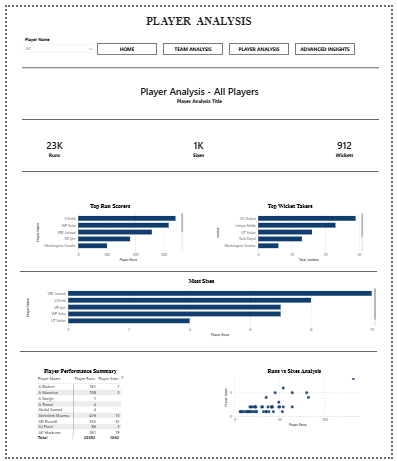

Layout of this report page (visuals, bound fields, positions):
{"tool":"powerbi","page":{"name":"Player Analysis","canvas":[1280,1500],"ordinal":2},"visuals":[{"type":"textbox","box":[0,18.5,1280,57.1],"z":0},{"type":"cardVisual","fields":{"Data":["Measure_Table.Player Analysis Title"]},"box":[372,240.7,536.1,99.8],"z":1000},{"type":"clusteredBarChart","title":"Top Run Scorers","fields":{"Category":["Dim_Player.Player Name"],"Y":["Measure_Table.Player Runs"]},"box":[94.4,653.5,500,200],"z":2000},{"type":"clusteredBarChart","title":"Most Sixes","fields":{"Category":["Dim_Player.Player Name"],"Y":["Measure_Table.Player Sixes"]},"box":[58.8,903.1,1175.5,200.3],"z":3000},{"type":"barChart","title":"Top Wicket Takers","fields":{"Category":["IPL_Data.bowler"],"Y":["Measure_Table.Total_wickets"]},"box":[694.4,653.5,500,200],"z":4000},{"type":"pivotTable","title":"Player Performance Summary","fields":{"Rows":["Dim_Player.Player Name"],"Values":["Measure_Table.Player Runs","Measure_Table.Player Sixes"]},"box":[94.8,1203.4,300.9,244.3],"z":5000},{"type":"shape","box":[49.6,163.4,1190,78.3],"z":6000},{"type":"shape","box":[49.6,300,1190,150],"z":7000},{"type":"shape","box":[44.4,807.8,1190,150],"z":8000},{"type":"shape","box":[44.4,1071.8,1190,150],"z":9000},{"type":"slicer","fields":{"Values":["Dim_Player.Player Name"]},"box":[45.4,96.4,255.1,82.2],"z":10000},{"type":"scatterChart","title":"Runs vs Sixes Analysis","fields":{"X":["Measure_Table.Player Runs"],"Y":["Measure_Table.Player Sixes"],"Category":["Dim_Player.Player Name"]},"box":[720.6,1204.4,473.7,200.3],"z":11000},{"type":"cardVisual","fields":{"Data":["Measure_Table.Player Runs"]},"box":[50,397.2,216.3,150.1],"z":12000},{"type":"cardVisual","fields":{"Data":["Measure_Table.Player Sixes"]},"box":[531.1,397.2,216.3,150.1],"z":13000},{"type":"cardVisual","fields":{"Data":["Measure_Table.Total_wickets"]},"box":[1018.1,397.2,216.3,150.1],"z":14000},{"type":"shape","box":[50,472.3,1188.8,150.1],"z":15000},{"type":"actionButton","box":[300,120,200,40.1],"z":16000},{"type":"actionButton","box":[960,120,200,40.1],"z":17000},{"type":"actionButton","box":[740,120,200,40.1],"z":18000},{"type":"actionButton","box":[520,120,200,40.1],"z":19000}]}

Visuals, with their boxes in screenshot pixels (x1, y1, x2, y2), scaled from the page's 1280x1500 canvas onto the 397x461 screenshot:
textbox: box(0, 6, 396, 23)
cardVisual - Measure_Table.Player Analysis Title: box(115, 74, 282, 105)
"Top Run Scorers" clusteredBarChart: box(29, 201, 184, 262)
"Most Sixes" clusteredBarChart: box(18, 278, 383, 339)
"Top Wicket Takers" barChart: box(215, 201, 370, 262)
"Player Performance Summary" pivotTable: box(29, 370, 123, 445)
shape: box(15, 50, 384, 74)
shape: box(15, 92, 384, 138)
shape: box(14, 248, 383, 294)
shape: box(14, 329, 383, 375)
slicer - Dim_Player.Player Name: box(14, 30, 93, 55)
"Runs vs Sixes Analysis" scatterChart: box(223, 370, 370, 432)
cardVisual - Measure_Table.Player Runs: box(16, 122, 83, 168)
cardVisual - Measure_Table.Player Sixes: box(165, 122, 232, 168)
cardVisual - Measure_Table.Total_wickets: box(316, 122, 383, 168)
shape: box(16, 145, 384, 191)
actionButton: box(93, 37, 155, 49)
actionButton: box(298, 37, 360, 49)
actionButton: box(230, 37, 292, 49)
actionButton: box(161, 37, 223, 49)
